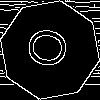O: (25, 25, 79, 73)
